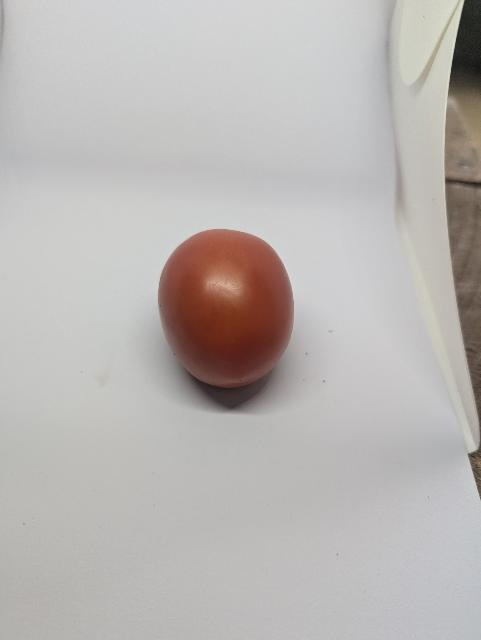red: (143, 214, 300, 398)
